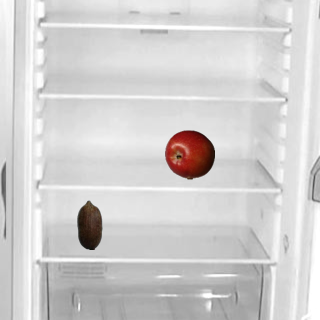Apple Braeburn: (164, 129, 214, 179)
Nut Pecan: (64, 199, 114, 249)
